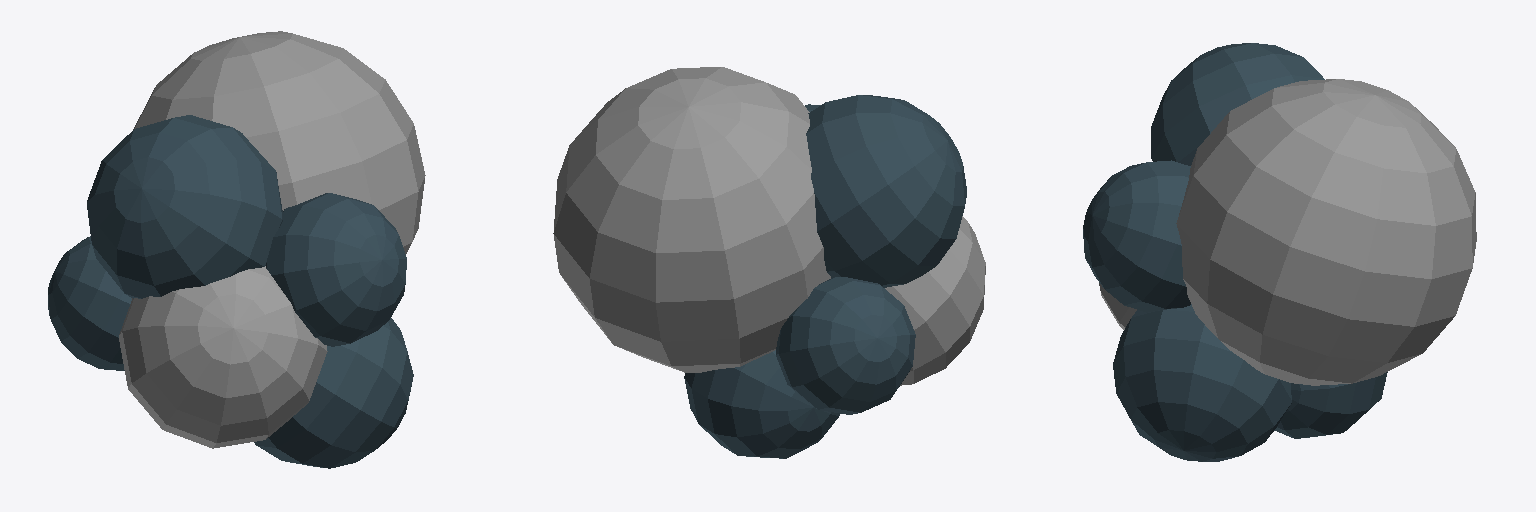
File: Explosion (3).obj
3 views of the same model, side by side, from view 1: azimuth 30°, elevation 25°; view 2: azimuth 150°, elevation 25°; view 3: azimuth 270°, elevation 25° (orthographic).
Visible parts, largest first — view 1: group[number redacted], group[number redacted], group[number redacted], group[number redacted], group[number redacted], group[number redacted]; view 2: group[number redacted], group[number redacted], group[number redacted], group[number redacted], group[number redacted]; view 3: group[number redacted], group[number redacted], group[number redacted], group[number redacted], group[number redacted], group[number redacted].
Part boxes in pixels (left/top/right/bottom): group[number redacted]: left=133, top=31, right=425, bottom=253; group[number redacted]: left=87, top=115, right=282, bottom=298; group[number redacted]: left=119, top=266, right=327, bottom=448; group[number redacted]: left=266, top=193, right=406, bottom=346; group[number redacted]: left=254, top=318, right=413, bottom=468; group[number redacted]: left=48, top=236, right=131, bottom=370; group[number redacted]: left=553, top=67, right=830, bottom=372; group[number redacted]: left=806, top=95, right=966, bottom=287; group[number redacted]: left=776, top=277, right=915, bottom=414; group[number redacted]: left=684, top=350, right=839, bottom=458; group[number redacted]: left=885, top=216, right=985, bottom=385; group[number redacted]: left=1176, top=79, right=1476, bottom=385; group[number redacted]: left=1113, top=304, right=1291, bottom=461; group[number redacted]: left=1083, top=160, right=1190, bottom=312; group[number redacted]: left=1151, top=43, right=1324, bottom=165; group[number redacted]: left=1274, top=372, right=1387, bottom=438; group[number redacted]: left=1099, top=283, right=1136, bottom=329.
Size of the model in its own units: 1.79 by 1.83 by 1.78.